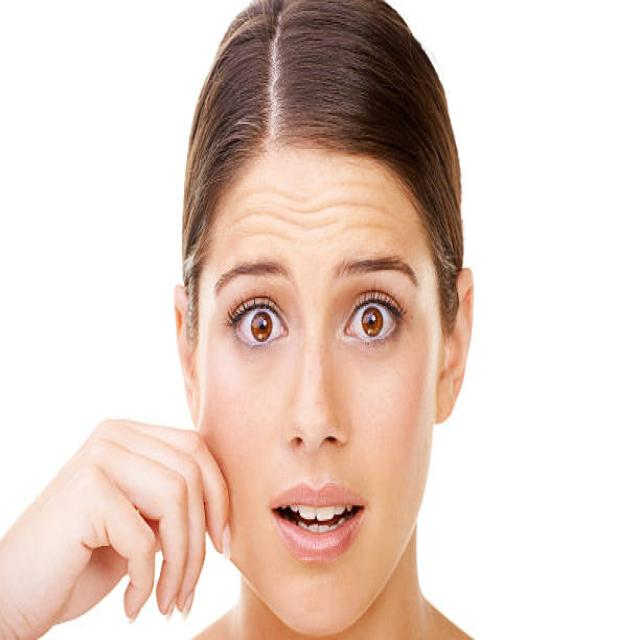Dry-Skin: (240, 176, 396, 271)
